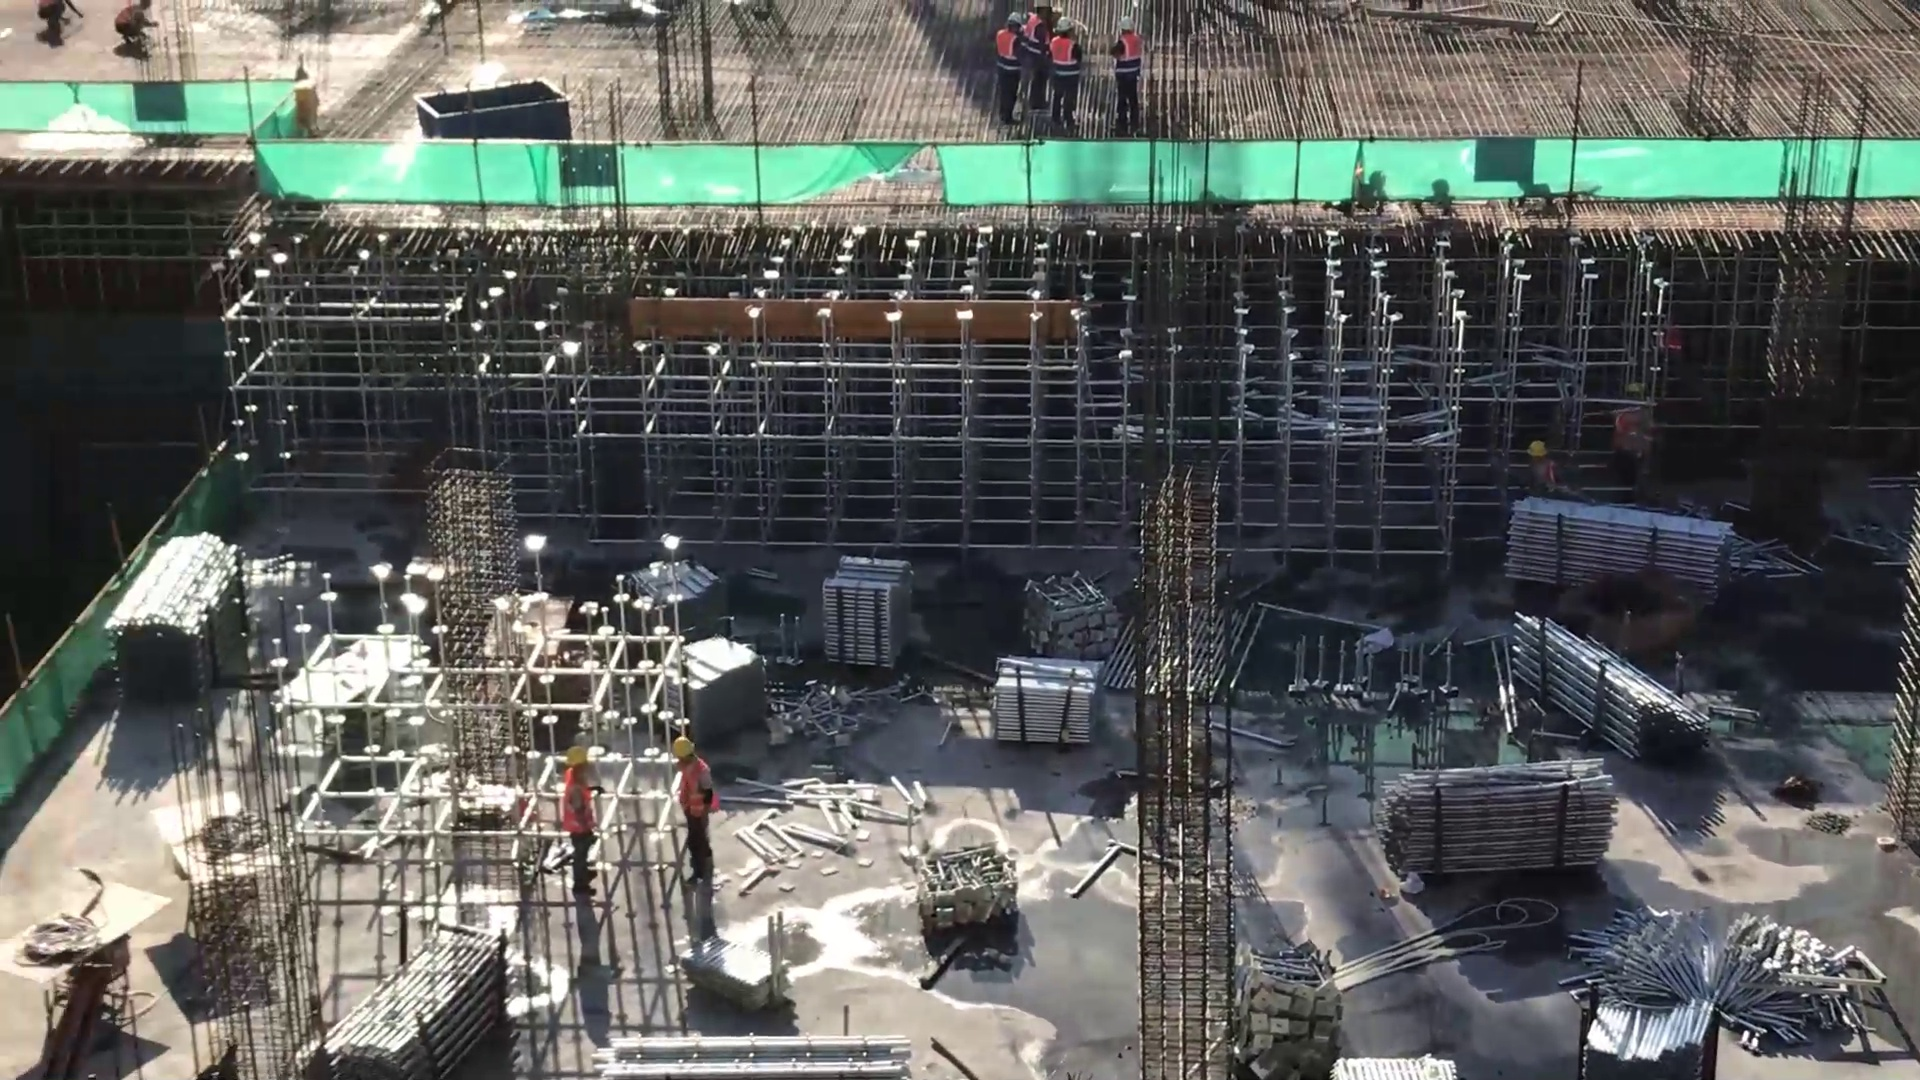helmet: (671, 735, 695, 761), (564, 742, 589, 763), (1528, 440, 1547, 456), (1056, 17, 1076, 30), (1119, 14, 1134, 30), (1008, 10, 1022, 21)
person: (659, 738, 724, 887), (559, 747, 605, 901), (1015, 1, 1061, 93), (1606, 389, 1655, 473), (1048, 14, 1085, 119), (1111, 20, 1144, 123), (994, 11, 1024, 119), (1521, 434, 1559, 503), (108, 3, 162, 46), (33, 1, 75, 38)
vest: (680, 763, 718, 816), (564, 776, 594, 834), (1052, 37, 1082, 79), (1114, 33, 1141, 76), (1026, 13, 1049, 59), (999, 28, 1018, 74)
